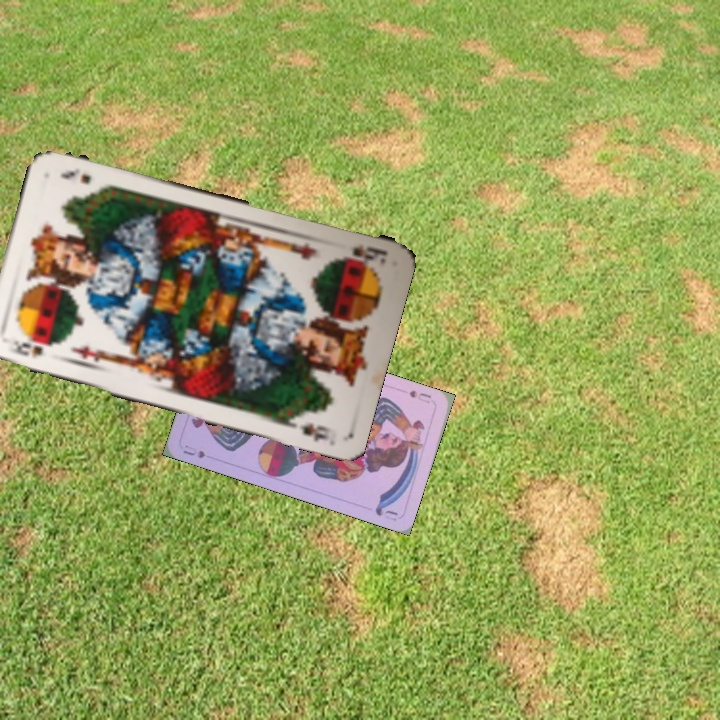SK: (340, 240, 391, 267), (3, 336, 46, 361)
SU: (179, 441, 208, 461), (405, 386, 434, 406)
